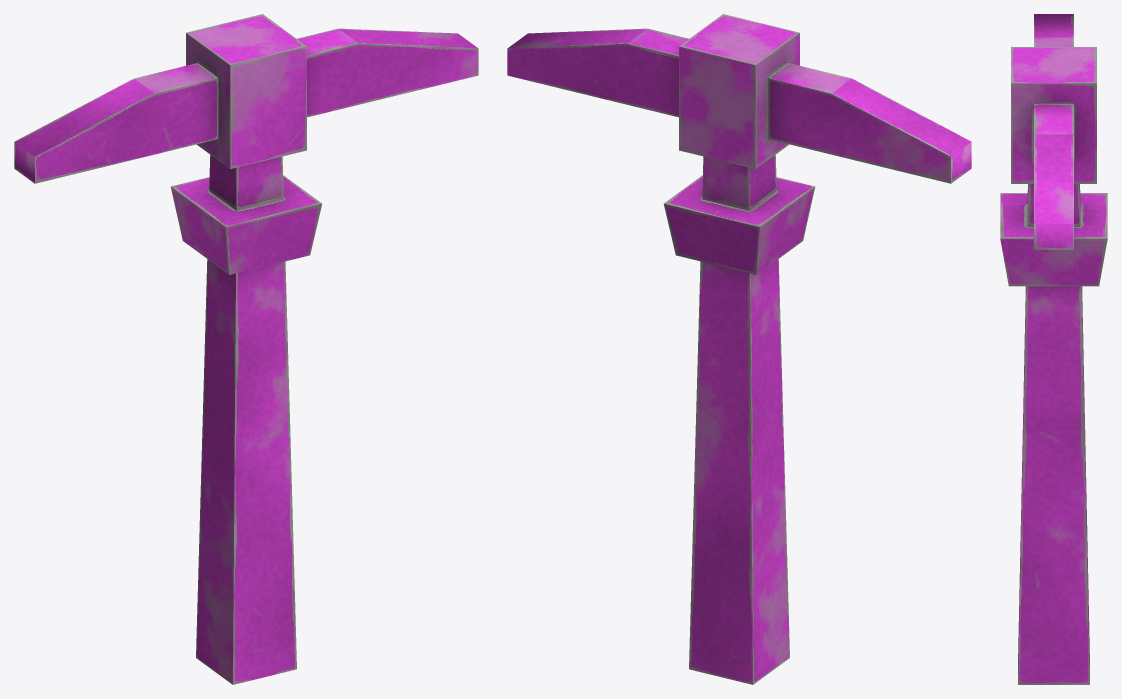
File: tool-pickaxe.glb
The picture shows the model from 3 angles, left to right: view 1: azimuth 30°, elevation 25°; view 2: azimuth 150°, elevation 25°; view 3: azimuth 270°, elevation 25°; orthographic projection. The views are drawn at different scales.
Visible parts, largest first — view 1: tool-pickaxe; view 2: tool-pickaxe; view 3: tool-pickaxe.
Boxes of the visible parts, x1=… form: tool-pickaxe: x1=14, y1=14, x2=478, y2=684; tool-pickaxe: x1=507, y1=14, x2=971, y2=684; tool-pickaxe: x1=1000, y1=14, x2=1107, y2=684.
Bounding box in the file's own units: 0.1786 × 0.24 × 0.0387.
Materials: 1 (1 with a texture image).
